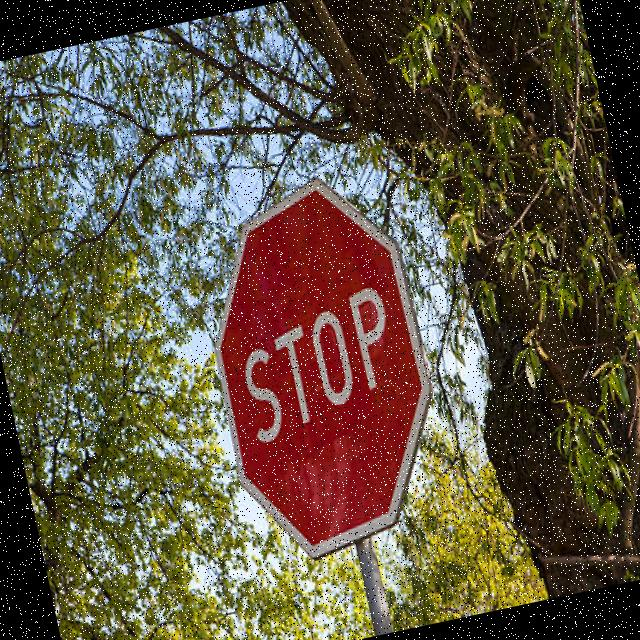stop: (173, 153, 472, 587)
